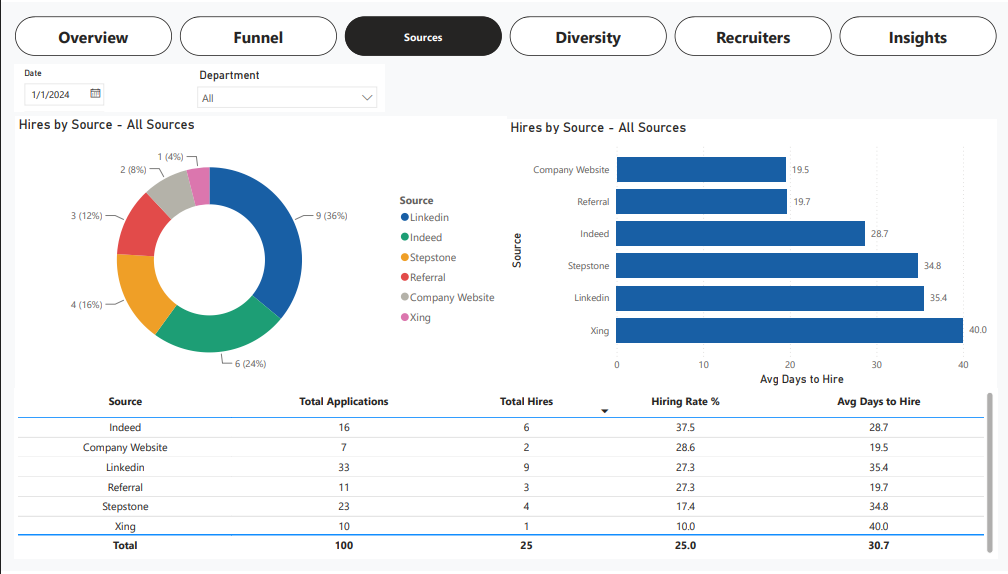

The page's visual inventory and layout, read from the dashboard file:
{"tool":"powerbi","page":{"name":"Sources","canvas":[1280,720],"ordinal":2},"visuals":[{"type":"donutChart","fields":{"Category":["Candidates.Source"],"Y":["_Measures.Total Hires"]},"box":[18.6,144.3,622.9,344.3],"z":0},{"type":"clusteredBarChart","fields":{"Category":["Candidates.Source"],"Y":["_Measures.Avg Days to Hire"]},"box":[641.7,146.7,621.7,343.3],"z":1000},{"type":"tableEx","fields":{"Values":["Candidates.Source","_Measures.Total Applications","_Measures.Total Hires","_Measures.Hiring Rate %","_Measures.Avg Days to Hire"]},"box":[18,488,1246,216],"z":2000},{"type":"slicer","fields":{"Values":["DateTable.Date"]},"box":[18.3,78.3,221.7,60],"z":3000},{"type":"slicer","fields":{"Values":["Candidates.Department"]},"box":[240,78.3,248.3,60],"z":4000},{"type":"pageNavigator","box":[18.6,17.1,1245.7,50],"z":5000}]}

Visuals, with their boxes in screenshot pixels (x1, y1, x2, y2), scaled from the page's 1280x720 canvas onto the 1008x574 screenshot:
donutChart - Candidates.Source x _Measures.Total Hires: <box>15,115,505,390</box>
clusteredBarChart - Candidates.Source x _Measures.Avg Days to Hire: <box>505,117,995,391</box>
tableEx - Candidates.Source x _Measures.Total Applications: <box>14,389,995,561</box>
slicer - DateTable.Date: <box>14,62,189,110</box>
slicer - Candidates.Department: <box>189,62,385,110</box>
pageNavigator: <box>15,14,996,53</box>
